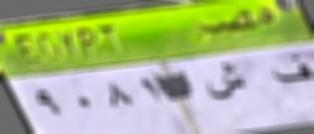0: (74, 85, 96, 116)
1: (140, 75, 161, 107)
8: (100, 80, 134, 115)
9: (32, 86, 64, 118)
faa: (270, 50, 312, 88)
sheen: (205, 59, 248, 109)
